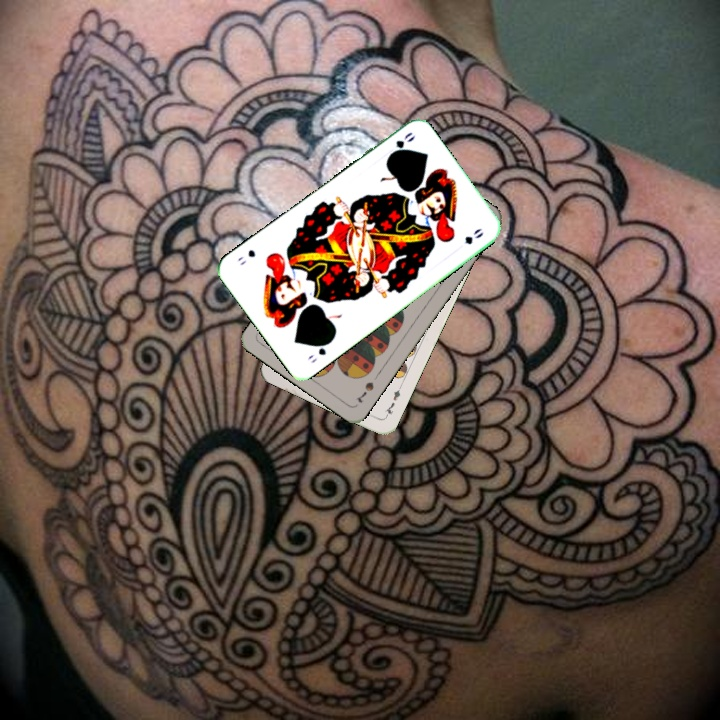E7: (380, 382, 404, 420)
GO: (384, 128, 418, 160), (303, 336, 335, 366)
S7: (352, 377, 376, 405)
